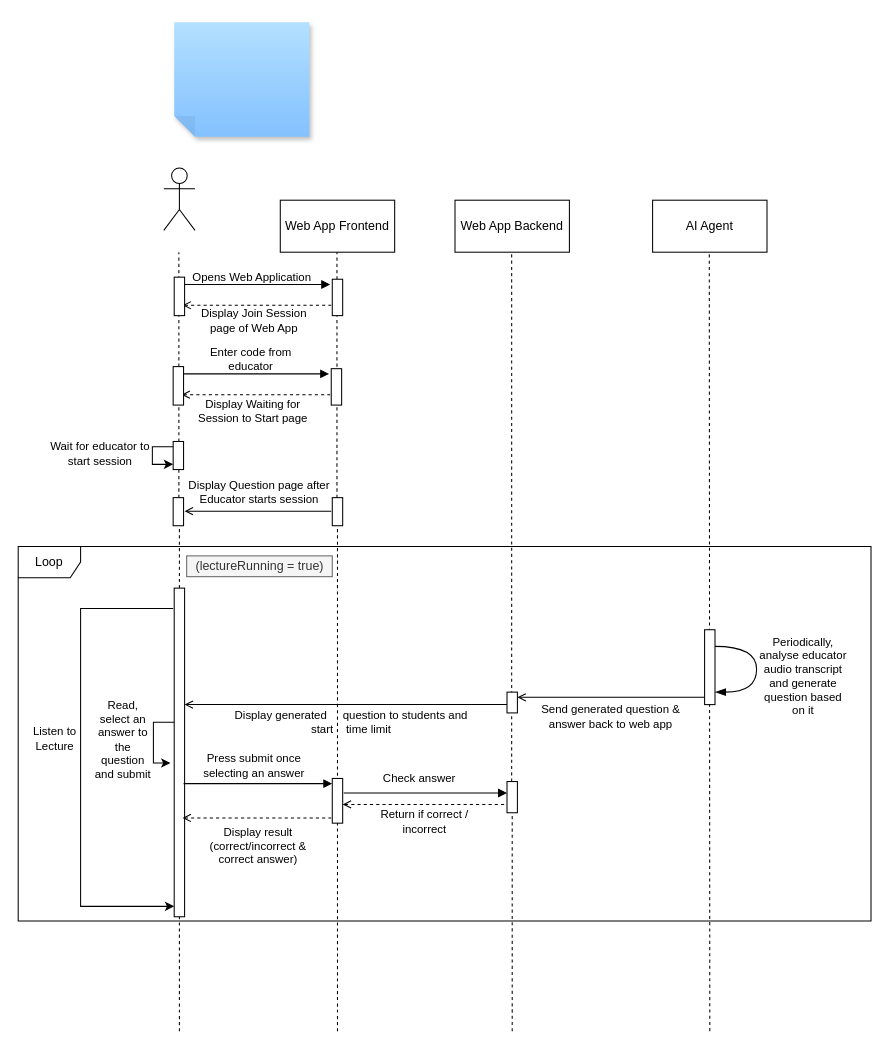
Image size: 889x1050. Some labels were removed from this diagram. The shapes that lost their labels are listed below. From the top down, each one's centre as x and y in pixels, then its label:
[242,81]: Student Sequence Diagram - if actively answering generated questions
[179,198]: Student
